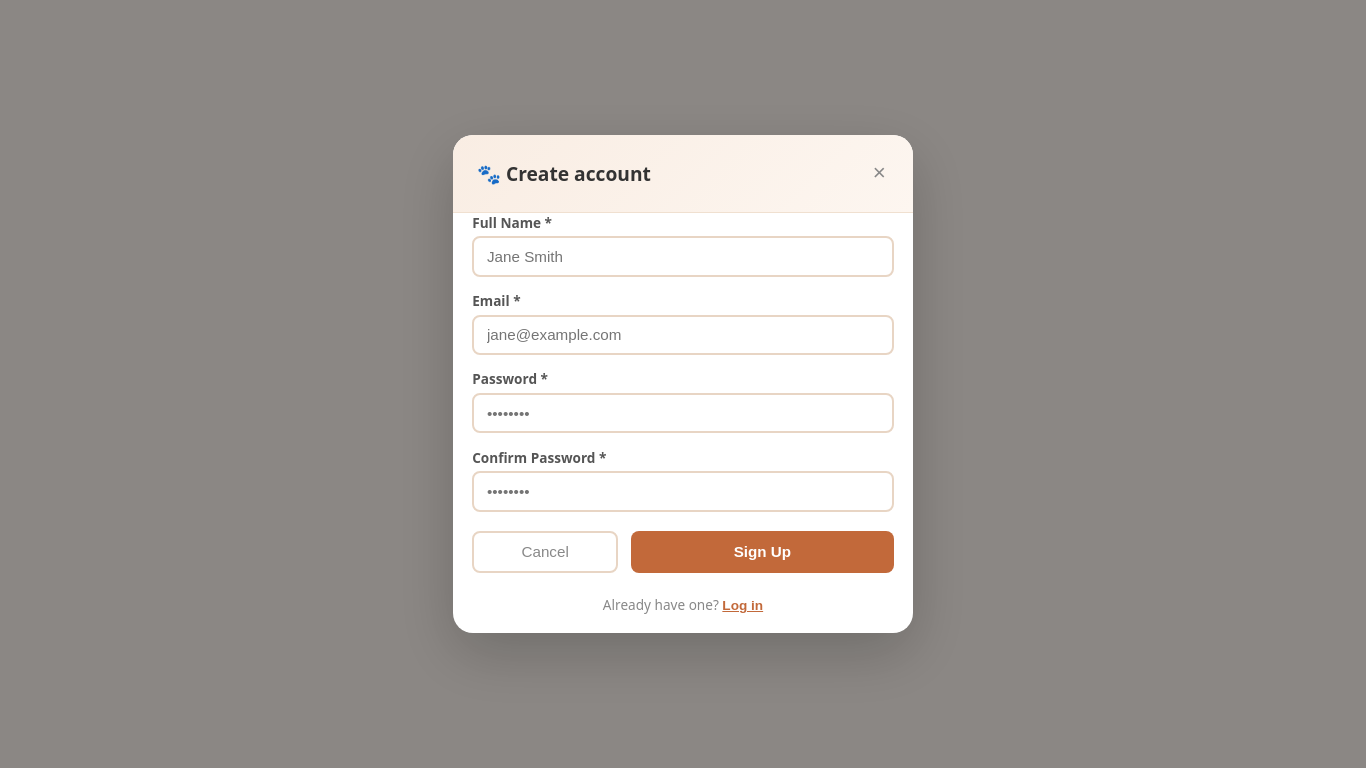
it: AuthModal – signup mode › shows error when passwords do not match
In the field with placeholder "Jane Smith": (683,256) [472, 236, 894, 277], type "Alice"
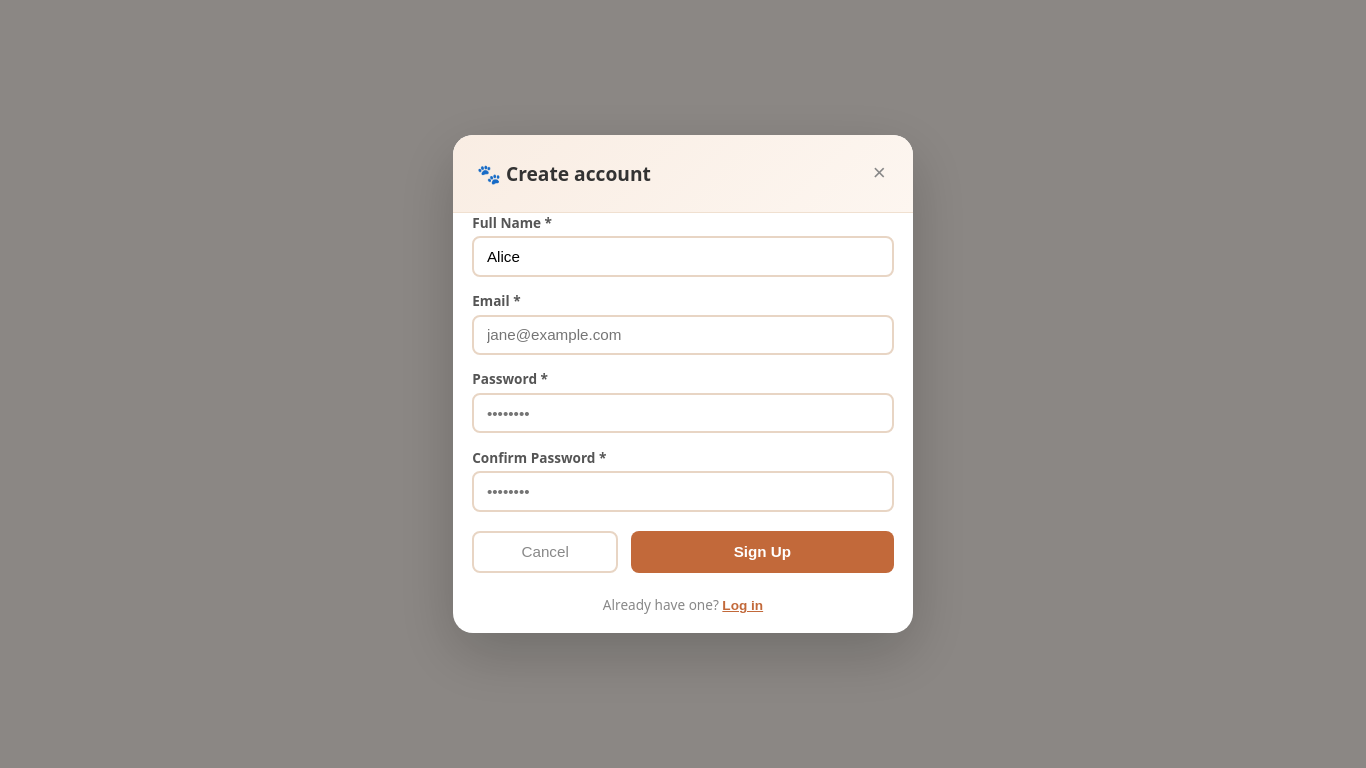
In the field with placeholder "jane@example.com": (683,335) [472, 315, 894, 355], type "alice@example.com"
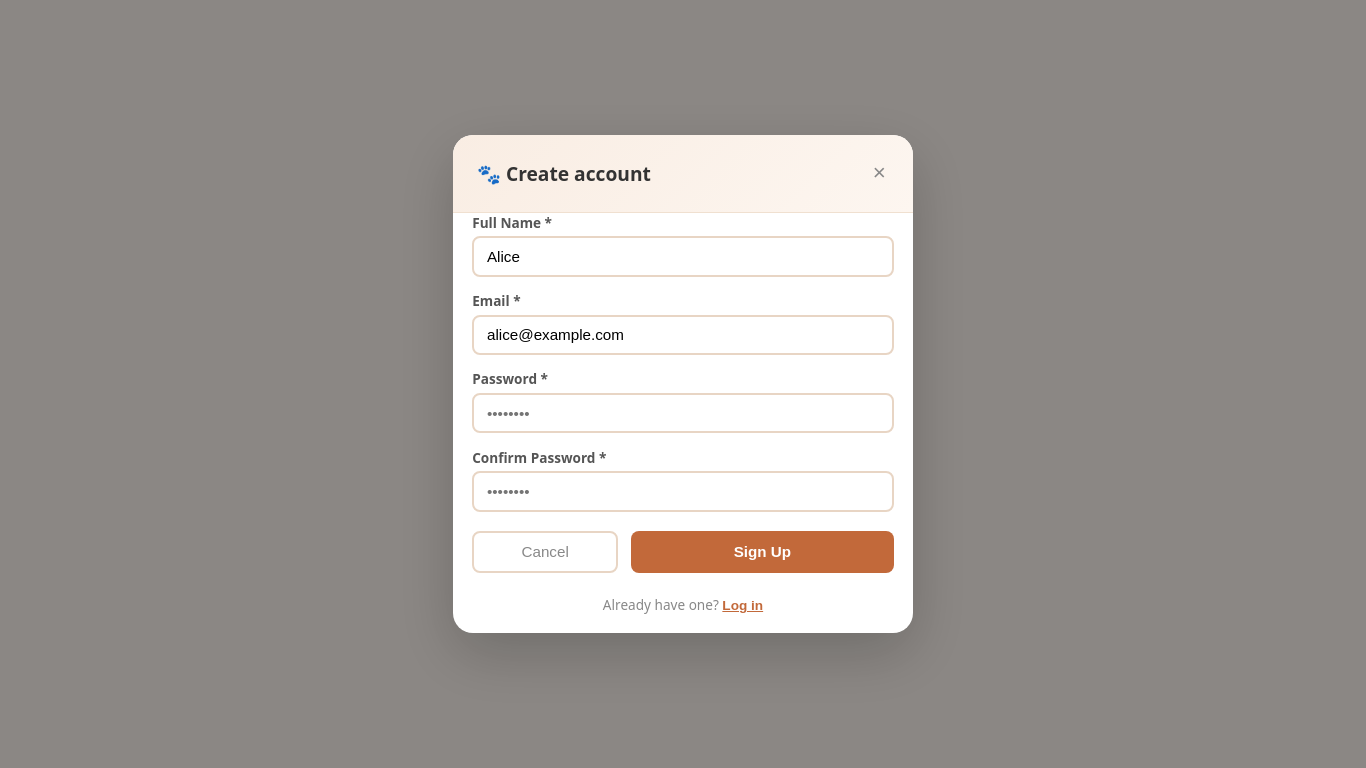
In the 1st password field with placeholder "••••••••": (683,413) [472, 393, 894, 433], type "secret123"
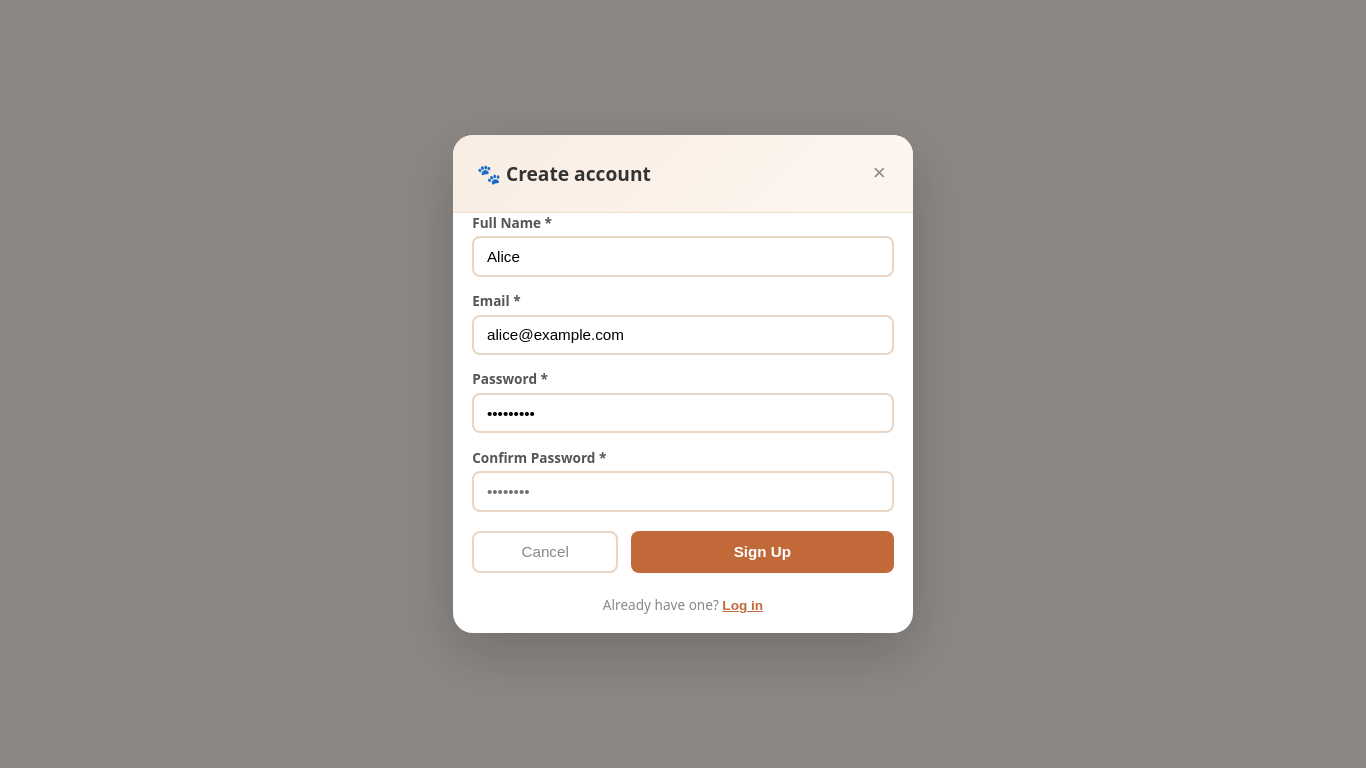
In the password field with placeholder "••••••••": (683,492) [472, 472, 894, 512], type "different"
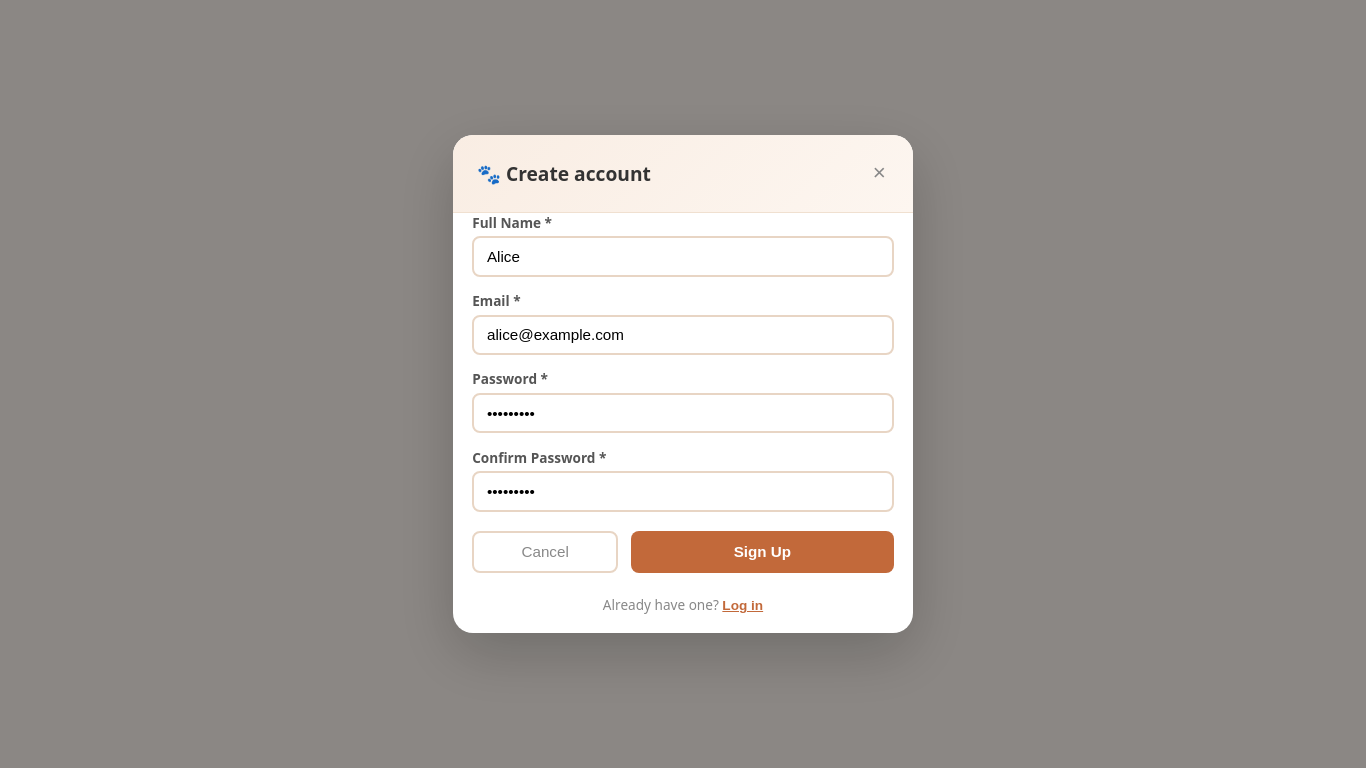
Click the button "Sign Up": (762,552) [631, 531, 894, 573]
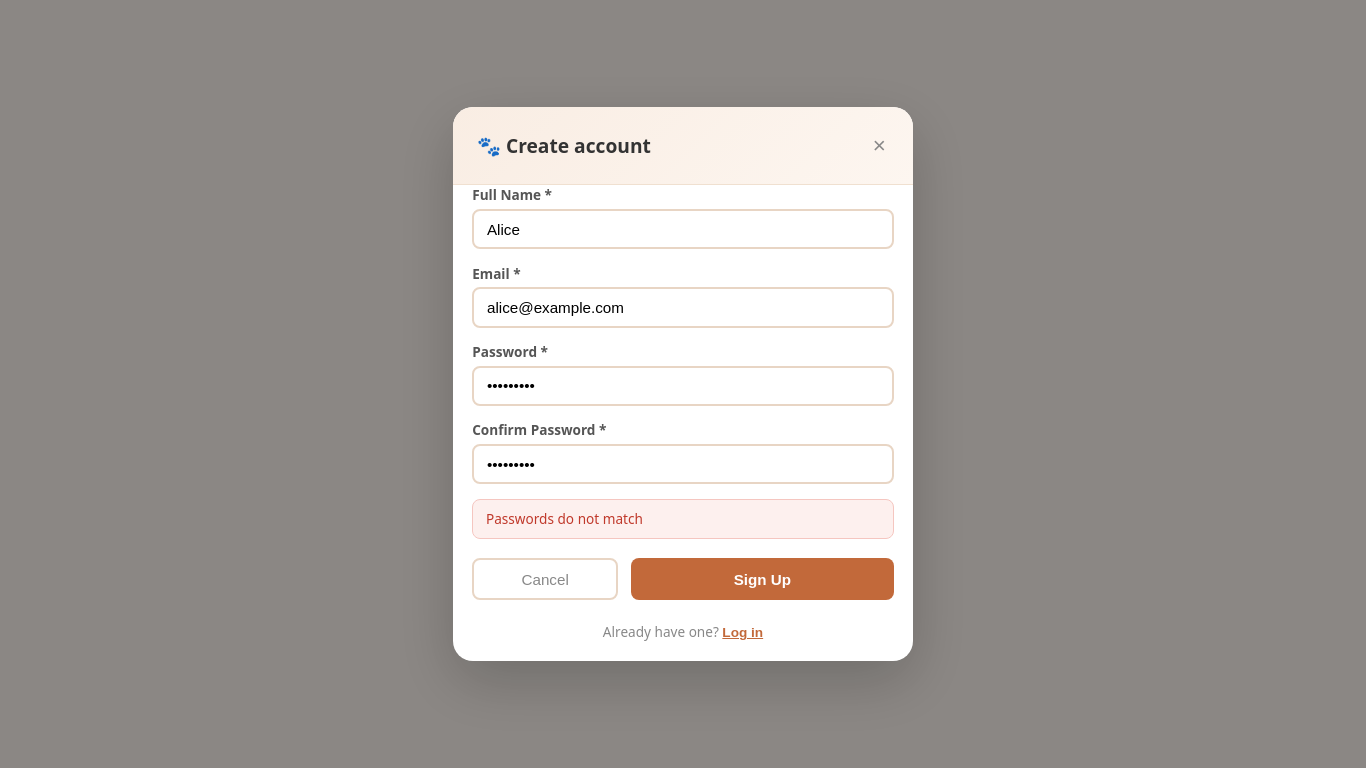
Expected: the text "Passwords do not match" is shown, [472, 499, 894, 539]
